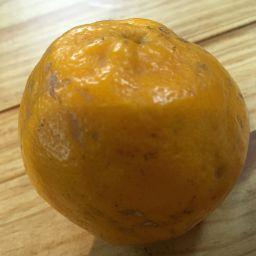Unripe: (19, 19, 250, 245)
